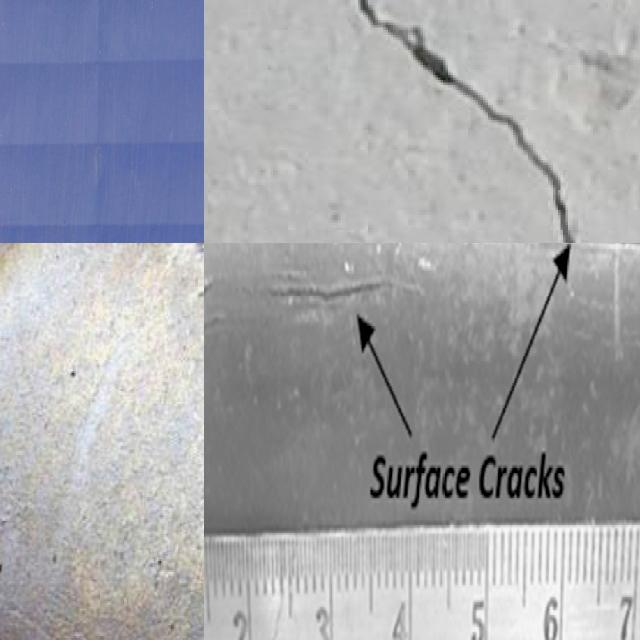Crack: (359, 0, 577, 243), (267, 281, 392, 299)
